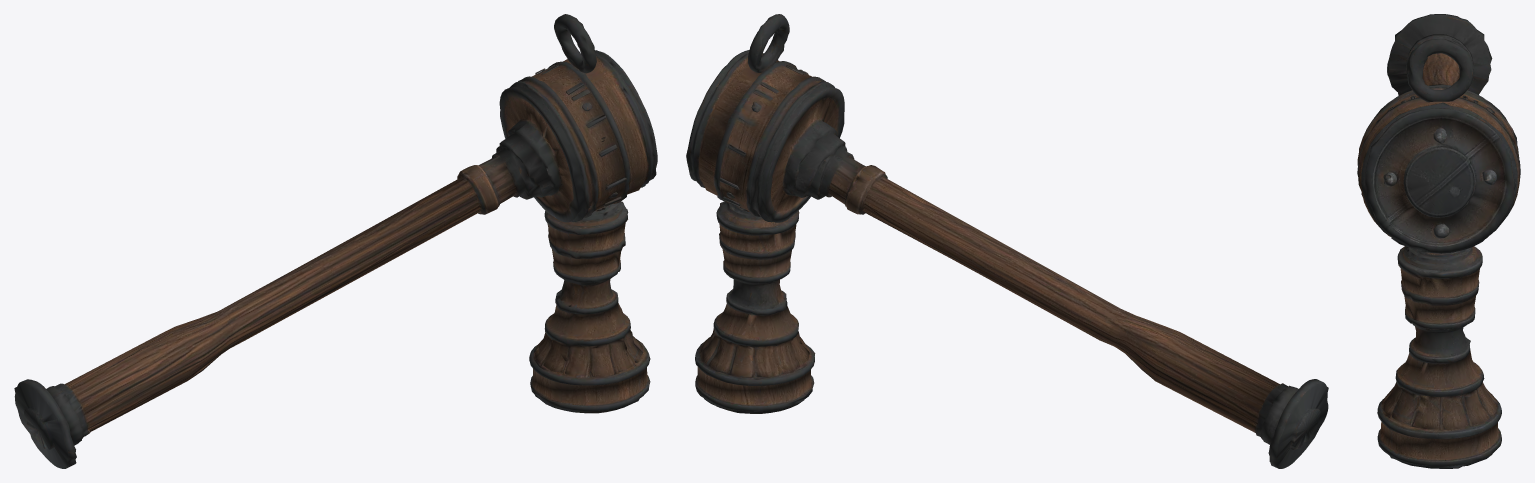
File: mallet.glb
3 views of the same model, side by side, from view 1: azimuth 30°, elevation 25°; view 2: azimuth 150°, elevation 25°; view 3: azimuth 270°, elevation 25° (orthographic). The views are drawn at different scales.
Parts seen in each view (by area): view 1: midway-fit; view 2: midway-fit; view 3: midway-fit.
Boxes of the visible parts, <box> form: midway-fit: <box>14,14,657,468</box>; midway-fit: <box>686,14,1328,468</box>; midway-fit: <box>1357,14,1520,468</box>.
Bounding box in the file's own units: 1 × 0.5955 × 0.2219.
1 material, 1 textured.
